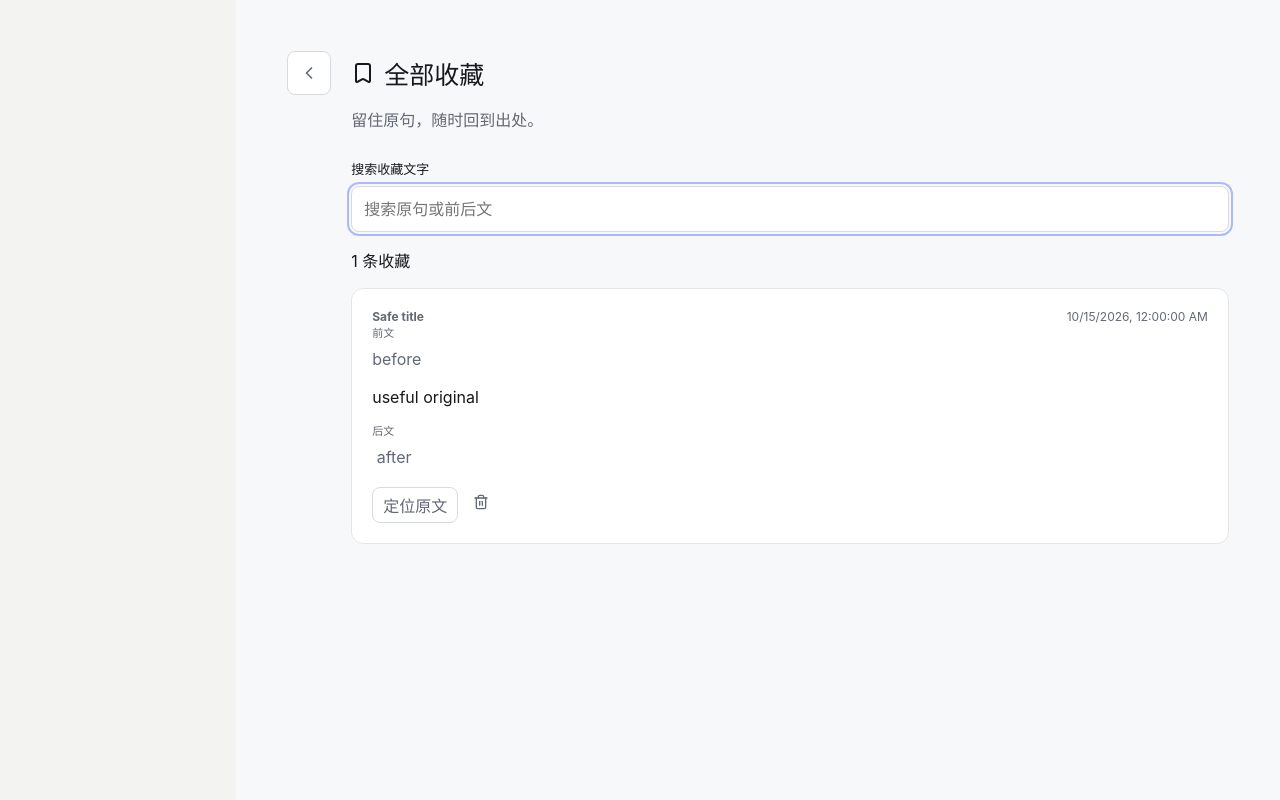
retains the complete snapshot when location fails and deletes only after explicit confirmation
Click the button "定位原文": (415, 505) [372, 487, 458, 523]
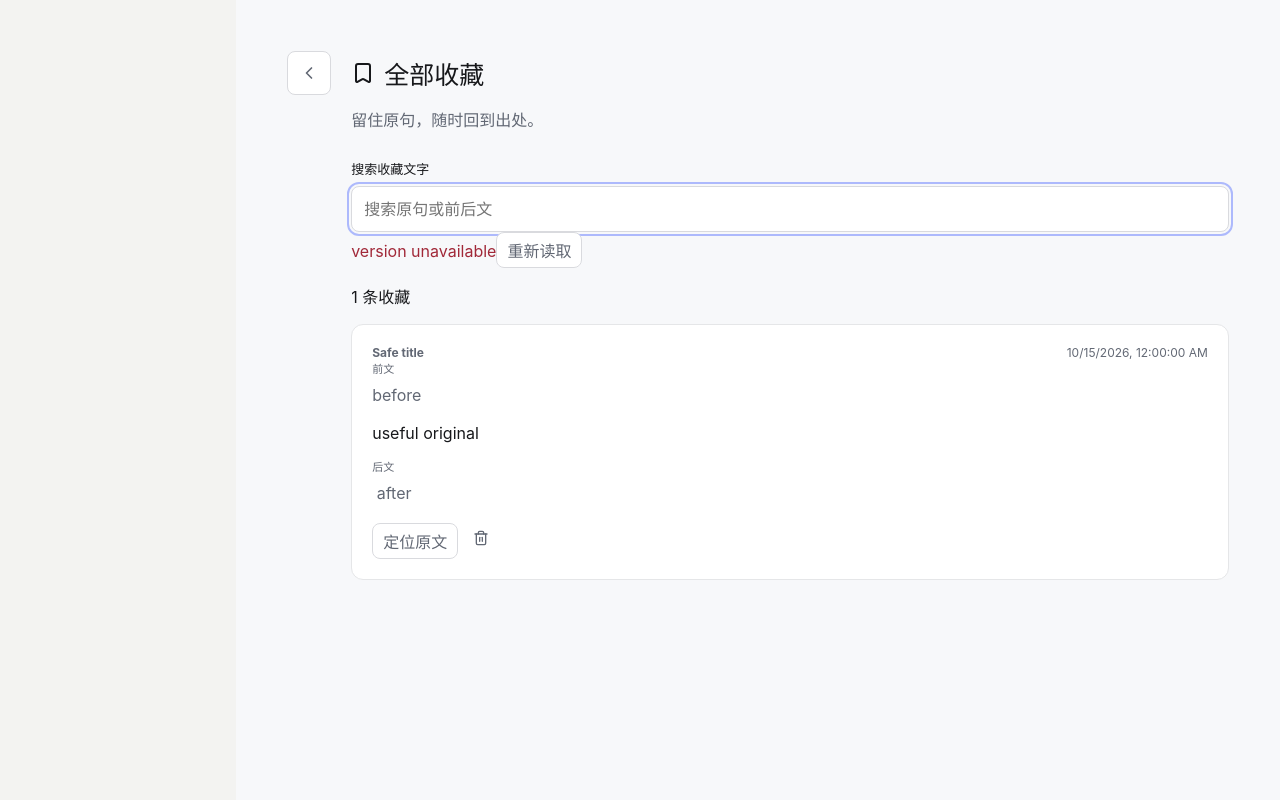
Check: the text "useful original" is shown, box [372, 423, 479, 443]
Check: the text "version unavailable" is shown, box [351, 241, 496, 261]
Click the button named "删除收藏": (481, 538) [466, 523, 496, 553]
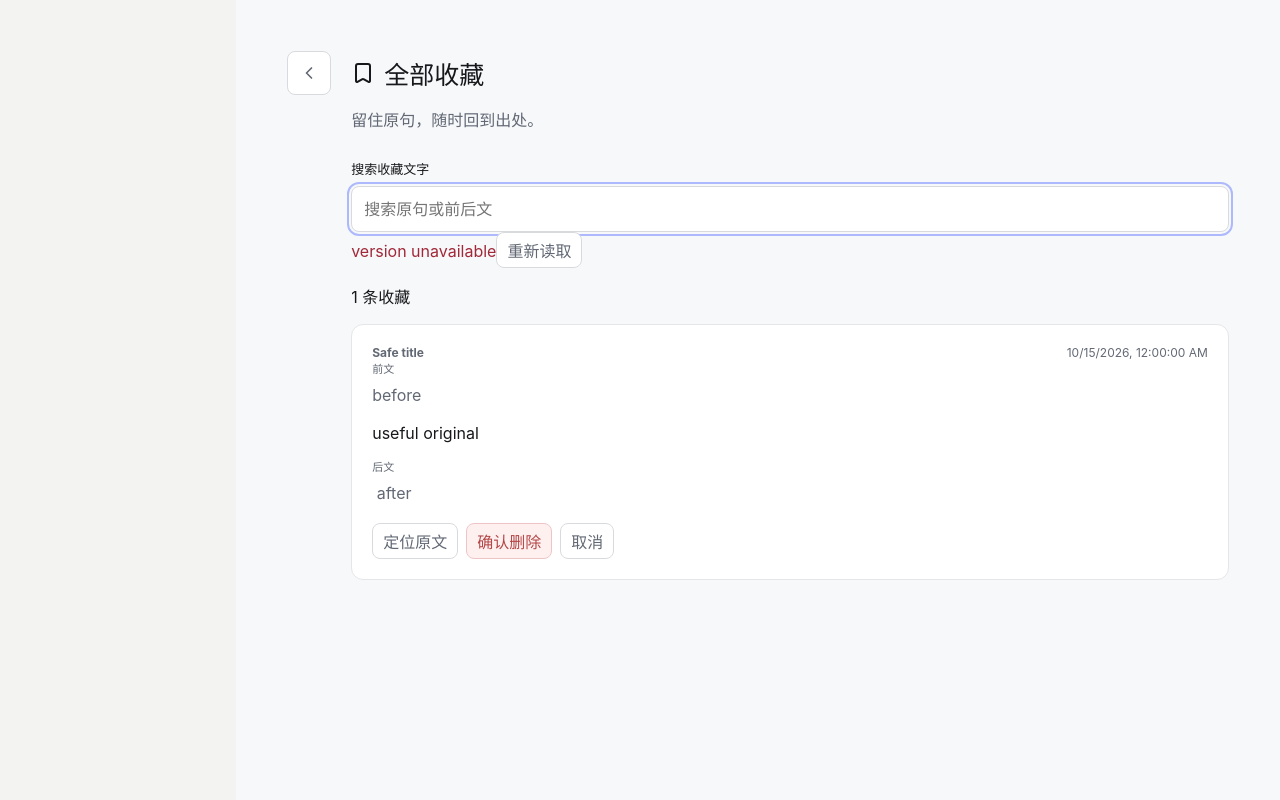
Check: the text "确认删除" is shown, box [466, 523, 552, 559]
